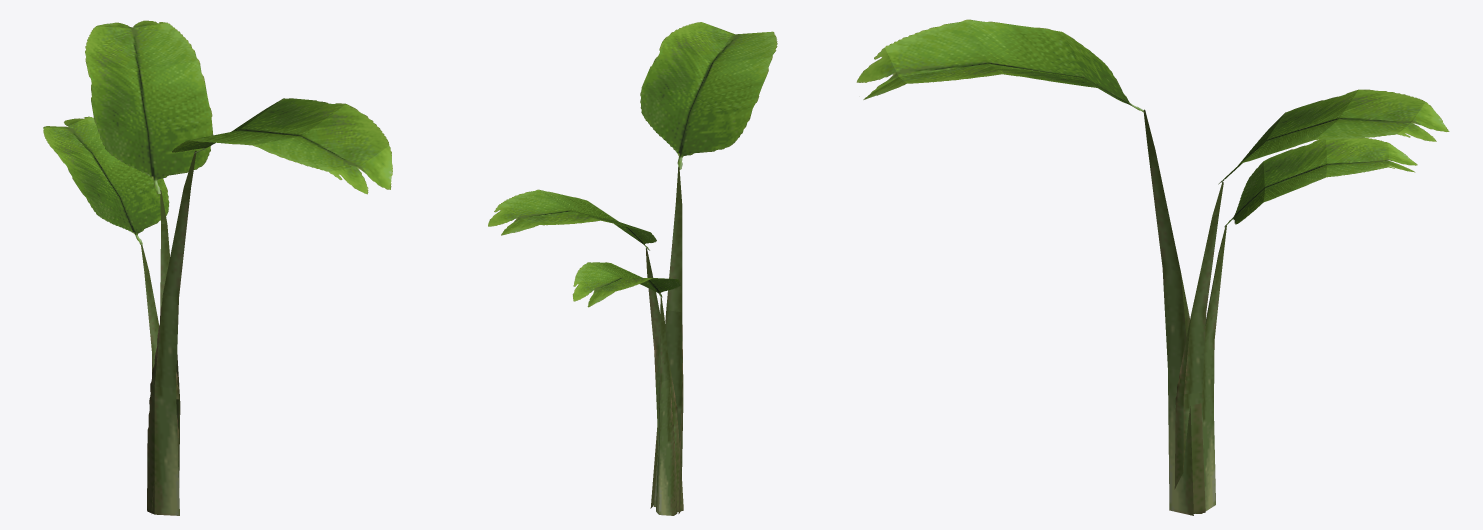
The model's file is Bird_of_paradise_cluster_1.fbx.
3 views of the same model, side by side, from view 1: azimuth 30°, elevation 25°; view 2: azimuth 150°, elevation 25°; view 3: azimuth 270°, elevation 25° (orthographic). The views are drawn at different scales.
Parts seen in each view (by area): view 1: Bird_of_paradise_cluster_1; view 2: Bird_of_paradise_cluster_1; view 3: Bird_of_paradise_cluster_1.
Part boxes in pixels (x1,y1,x2,y2): Bird_of_paradise_cluster_1: [43, 20, 392, 515]; Bird_of_paradise_cluster_1: [488, 22, 777, 515]; Bird_of_paradise_cluster_1: [856, 19, 1449, 515].
Size of the model in its own units: 57.18 by 133 by 157.
Materials: 1 (1 with a texture image).
